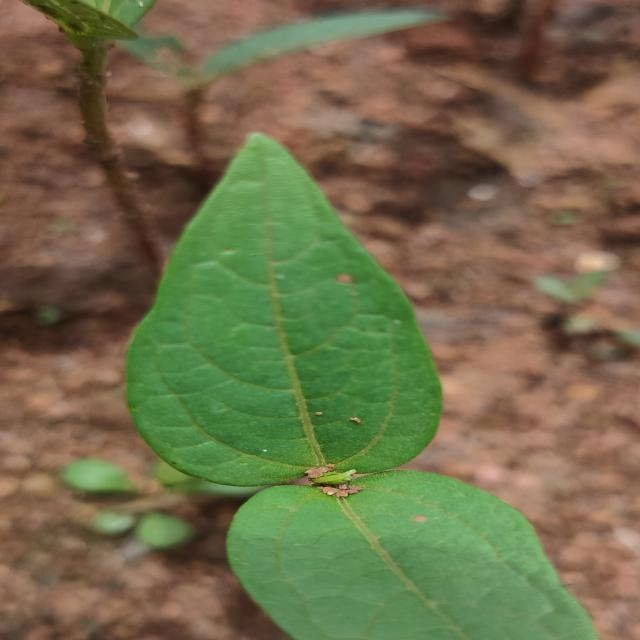Black gram_healthy: (122, 134, 440, 480), (230, 464, 587, 640)
